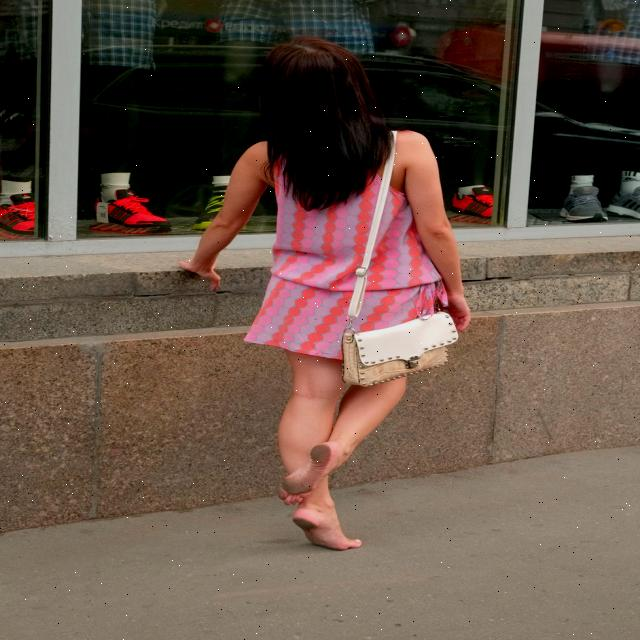No Safety Boots: (277, 441, 337, 506), (292, 508, 362, 550)
